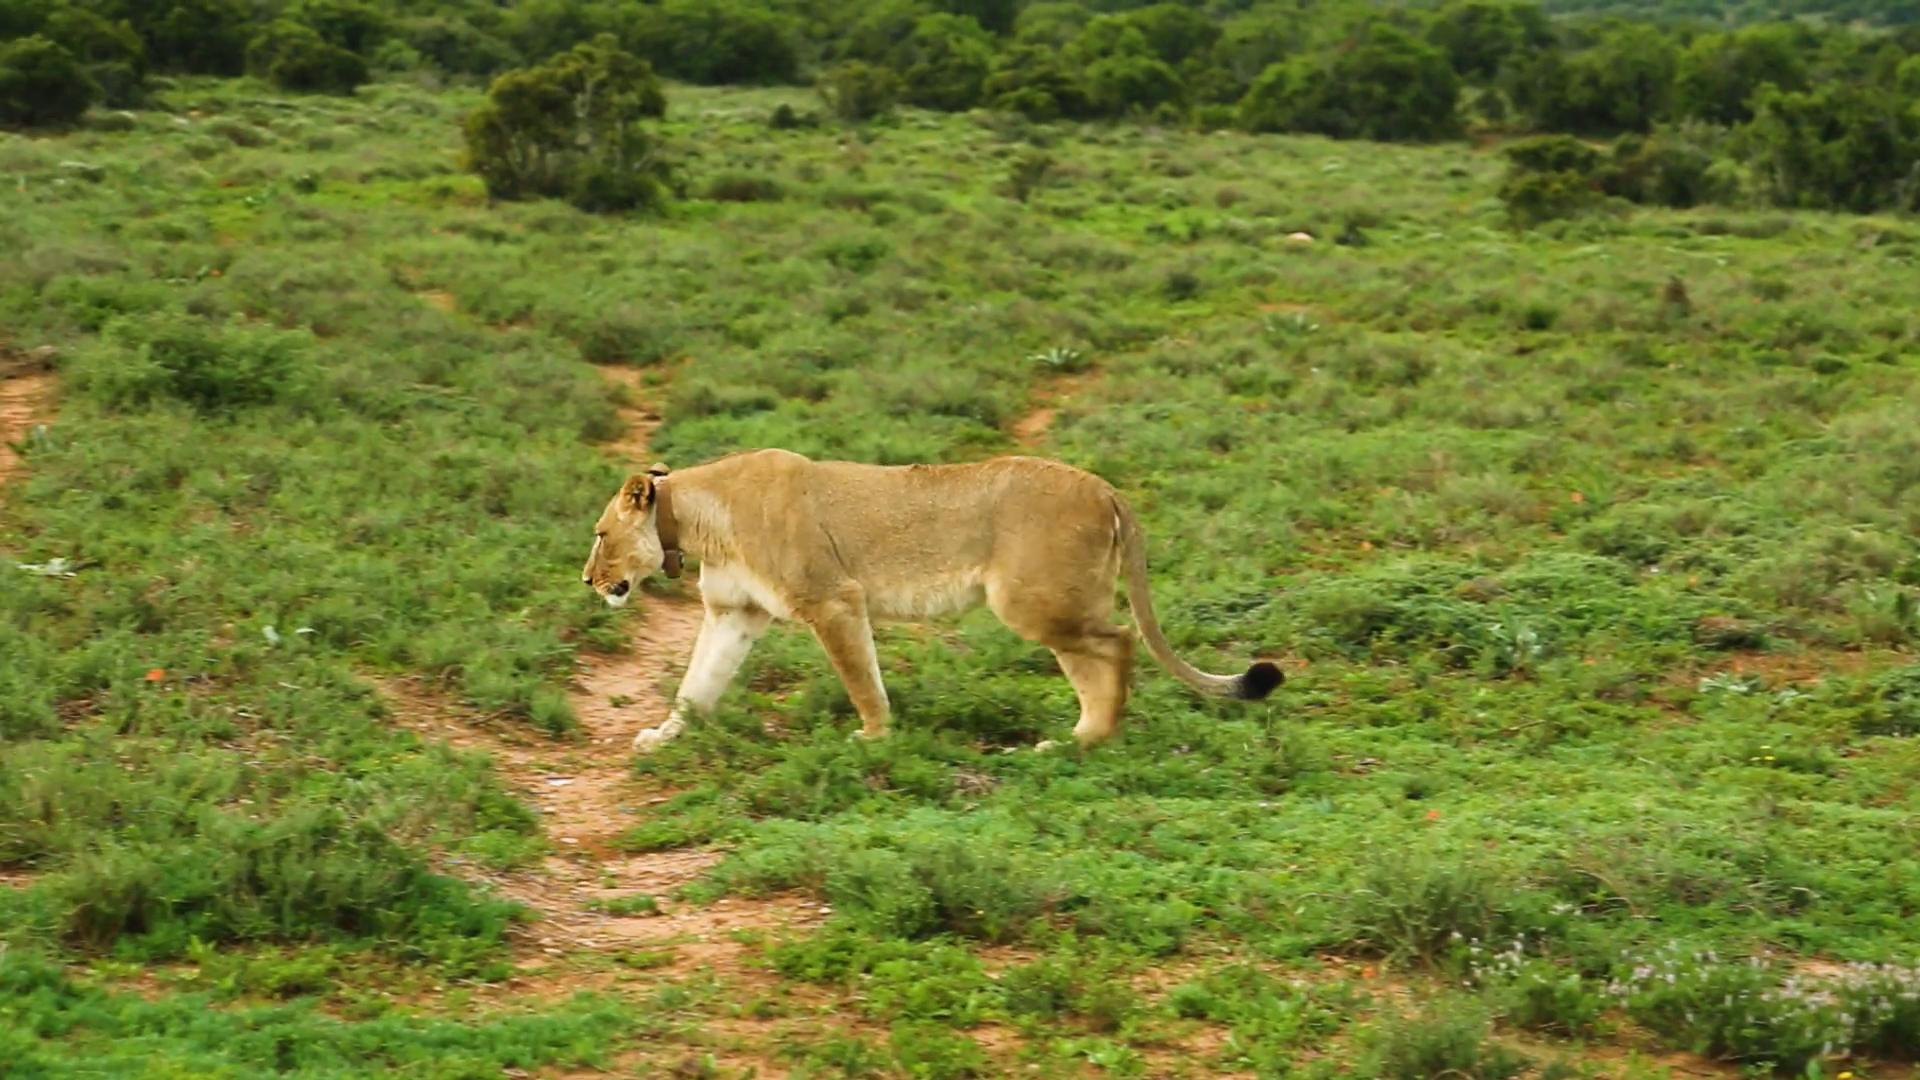lions: (488, 320, 1445, 816)
